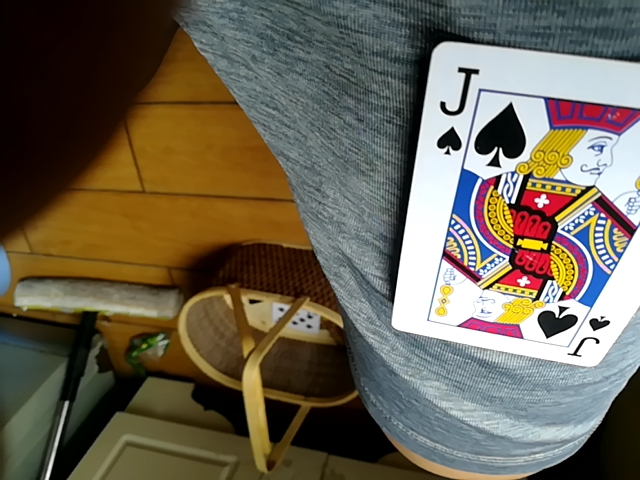ht j: (391, 42, 638, 371)
